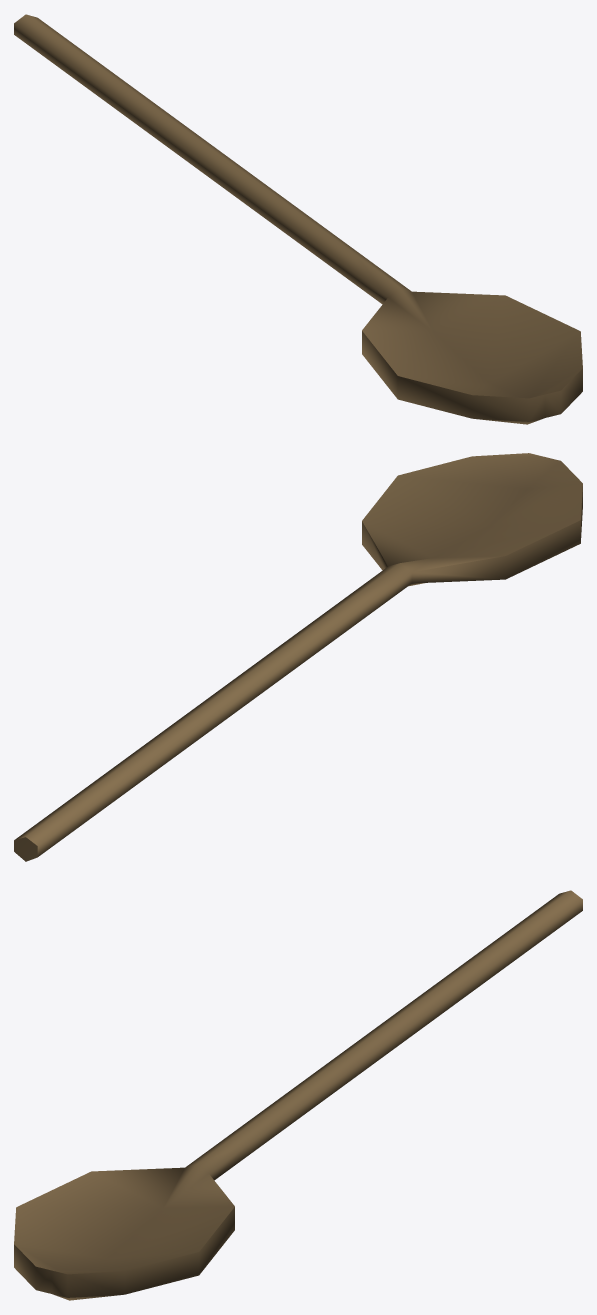
Rendered from human-household-items-wooden-spoon_v1.glb.
3 views of the same model, one above another, from view 1: azimuth 30°, elevation 25°; view 2: azimuth 150°, elevation 25°; view 3: azimuth 330°, elevation 25° (orthographic).
Parts seen in each view (by area): view 1: Wooden Spoon; view 2: Wooden Spoon; view 3: Wooden Spoon.
Boxes of the visible parts, x1,y1,x2,y2 form: Wooden Spoon: (14, 14, 582, 424); Wooden Spoon: (14, 453, 582, 861); Wooden Spoon: (14, 890, 582, 1300).
Size of the model in its own units: 0.061 by 0.0168 by 0.3.
